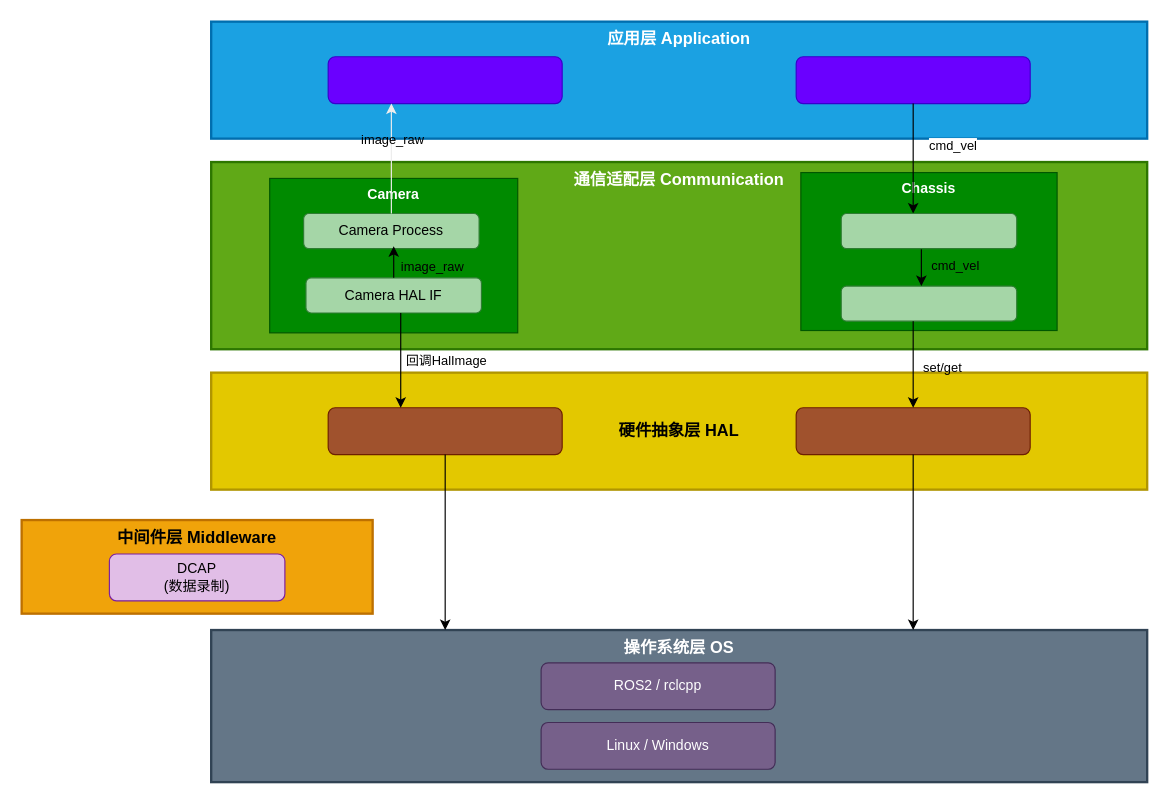
Some shapes in this 1168 by 803 pixel diagram are drawn without their labels. Here are the shapes that lost their labels. From the top down, the centre of each, then its label:
pixel 444 80: PER (感知)
pixel 912 80: NAV (导航)
pixel 928 230: Chassis Process
pixel 928 303: Chassis HAL IF
pixel 444 431: Dummy Camera
pixel 912 431: Dummy Chassis
